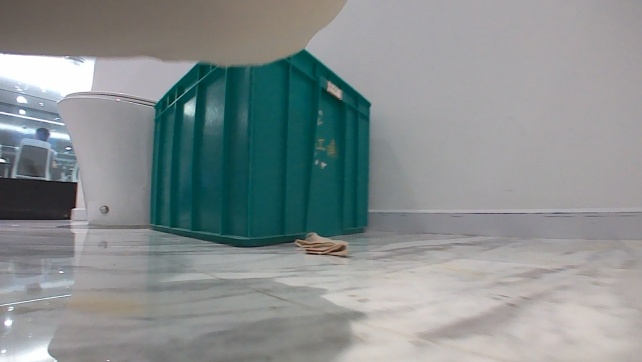socks: (293, 228, 349, 256)
toilet: (53, 87, 158, 229)
